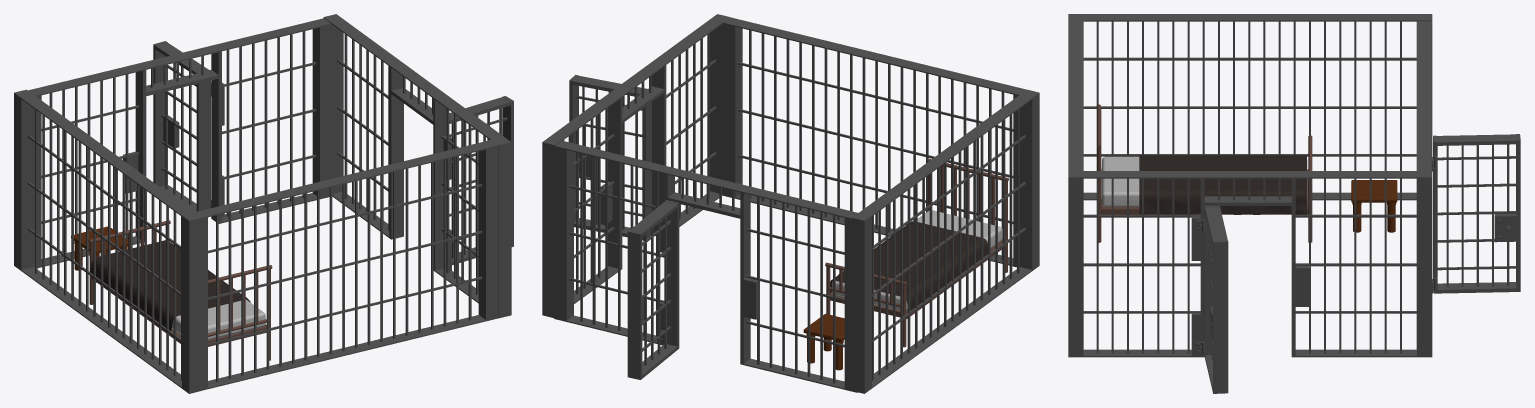
Rendered from Prison.fbx.
The picture shows the model from 3 angles, left to right: view 1: azimuth 30°, elevation 25°; view 2: azimuth 150°, elevation 25°; view 3: azimuth 270°, elevation 25°; orthographic projection. The views are drawn at different scales.
Visible parts, largest first — view 1: CellSide1; view 2: CellSide1; view 3: CellSide1.
Part boxes in pixels (box(x1,y1,x2,y2)): CellSide1: box(14, 14, 513, 393); CellSide1: box(542, 14, 1039, 393); CellSide1: box(1068, 14, 1520, 393).
Bounding box in the file's own units: 62.43 × 26.32 × 59.67.
